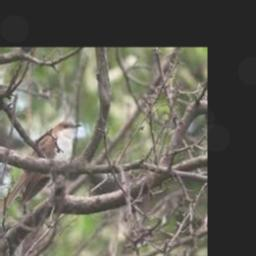Cuckoo: (0, 119, 80, 223)
